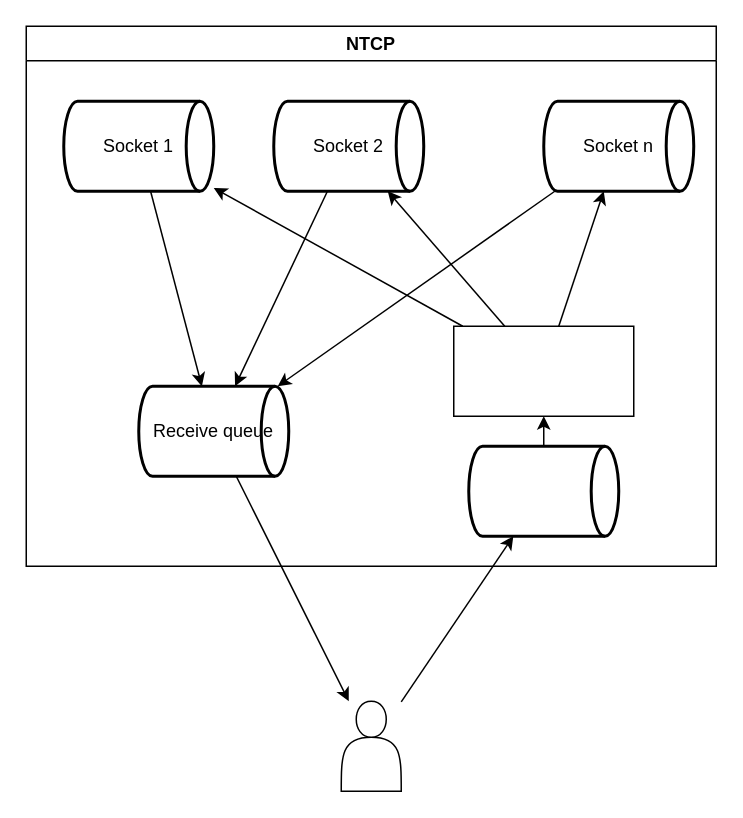
The diagram is 743 pixels wide and 818 high, and some of its shapes have lost their labels. The shapes that lost their labels are listed below. From the top down, each one's box as (x1, y1, x2, y2) in pixels, then its label:
(452, 325, 634, 416): Scheduler
(466, 444, 620, 537): Send queue
